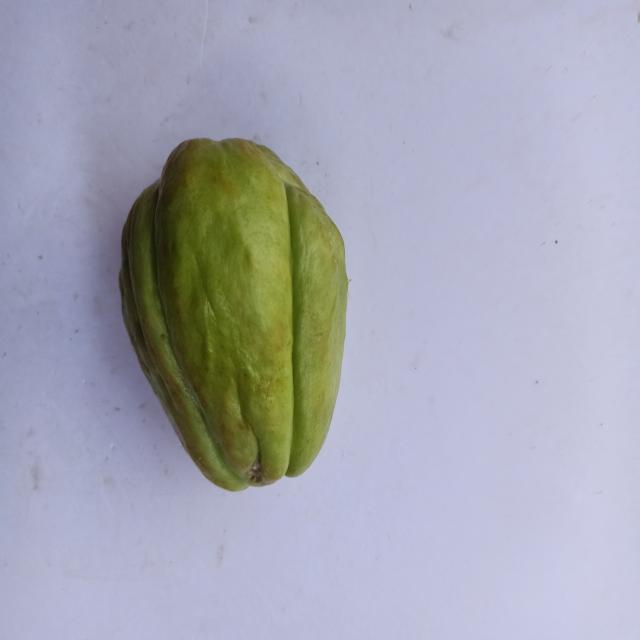Chayote: (106, 127, 368, 502)
